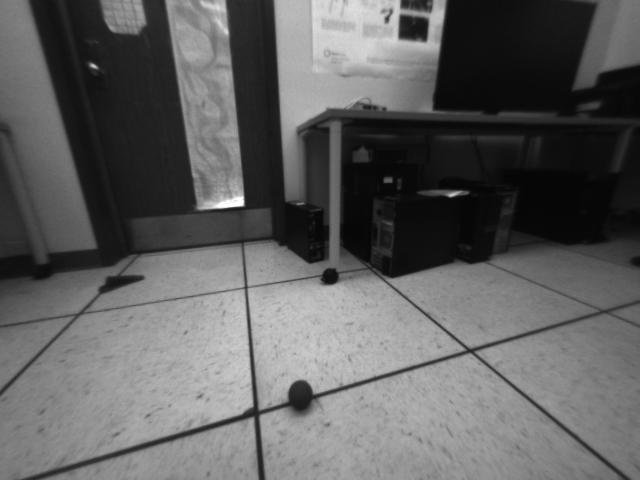dogtoy: (280, 372, 325, 422)
